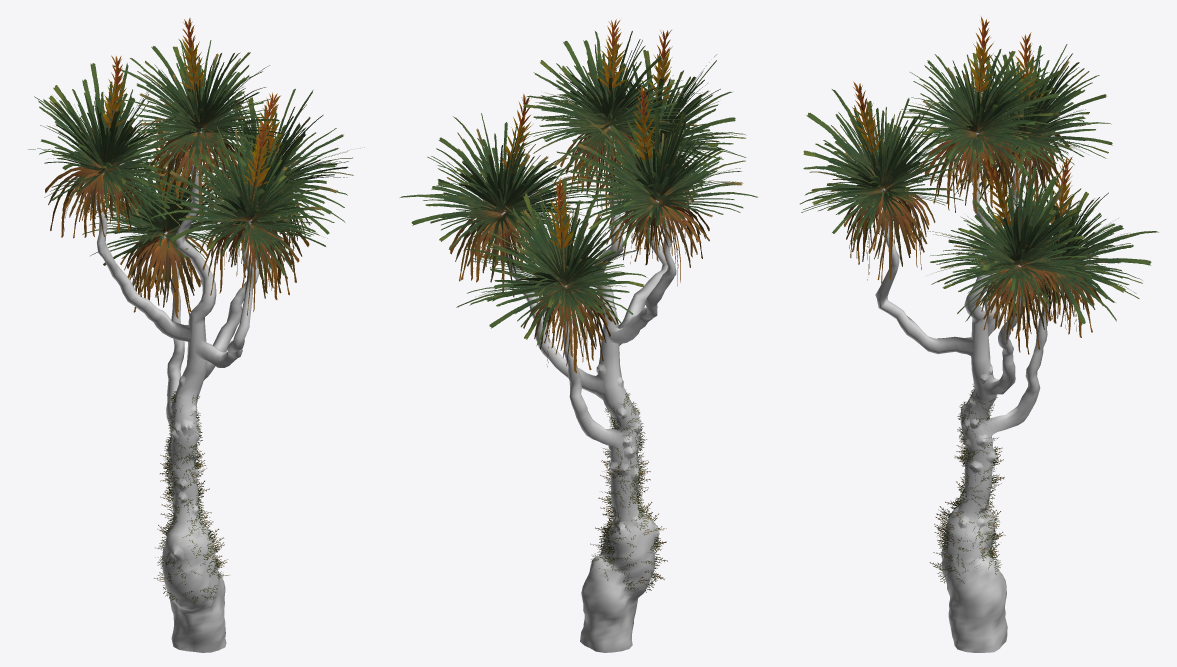
The model's file is Tree_09_1_L0.fbx.
3 views of the same model, side by side, from view 1: azimuth 30°, elevation 25°; view 2: azimuth 150°, elevation 25°; view 3: azimuth 270°, elevation 25° (orthographic).
Visible parts, largest first — view 1: polySurface51; view 2: polySurface51; view 3: polySurface51.
Part boxes in pixels (<box>): polySurface51: <box>28,18,364,652</box>; polySurface51: <box>400,19,757,652</box>; polySurface51: <box>800,16,1158,652</box>.
Bounding box in the file's own units: 677 × 1236 × 671.
